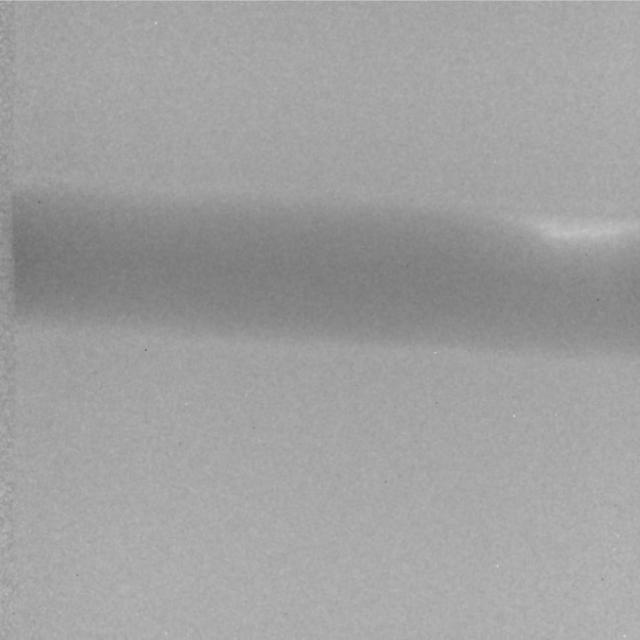unfused: (532, 216, 635, 255)
